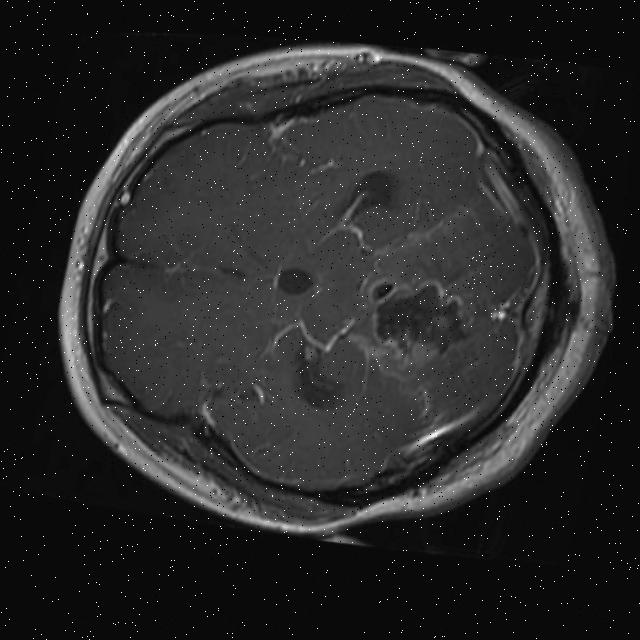Glioma: (355, 268, 485, 371)
